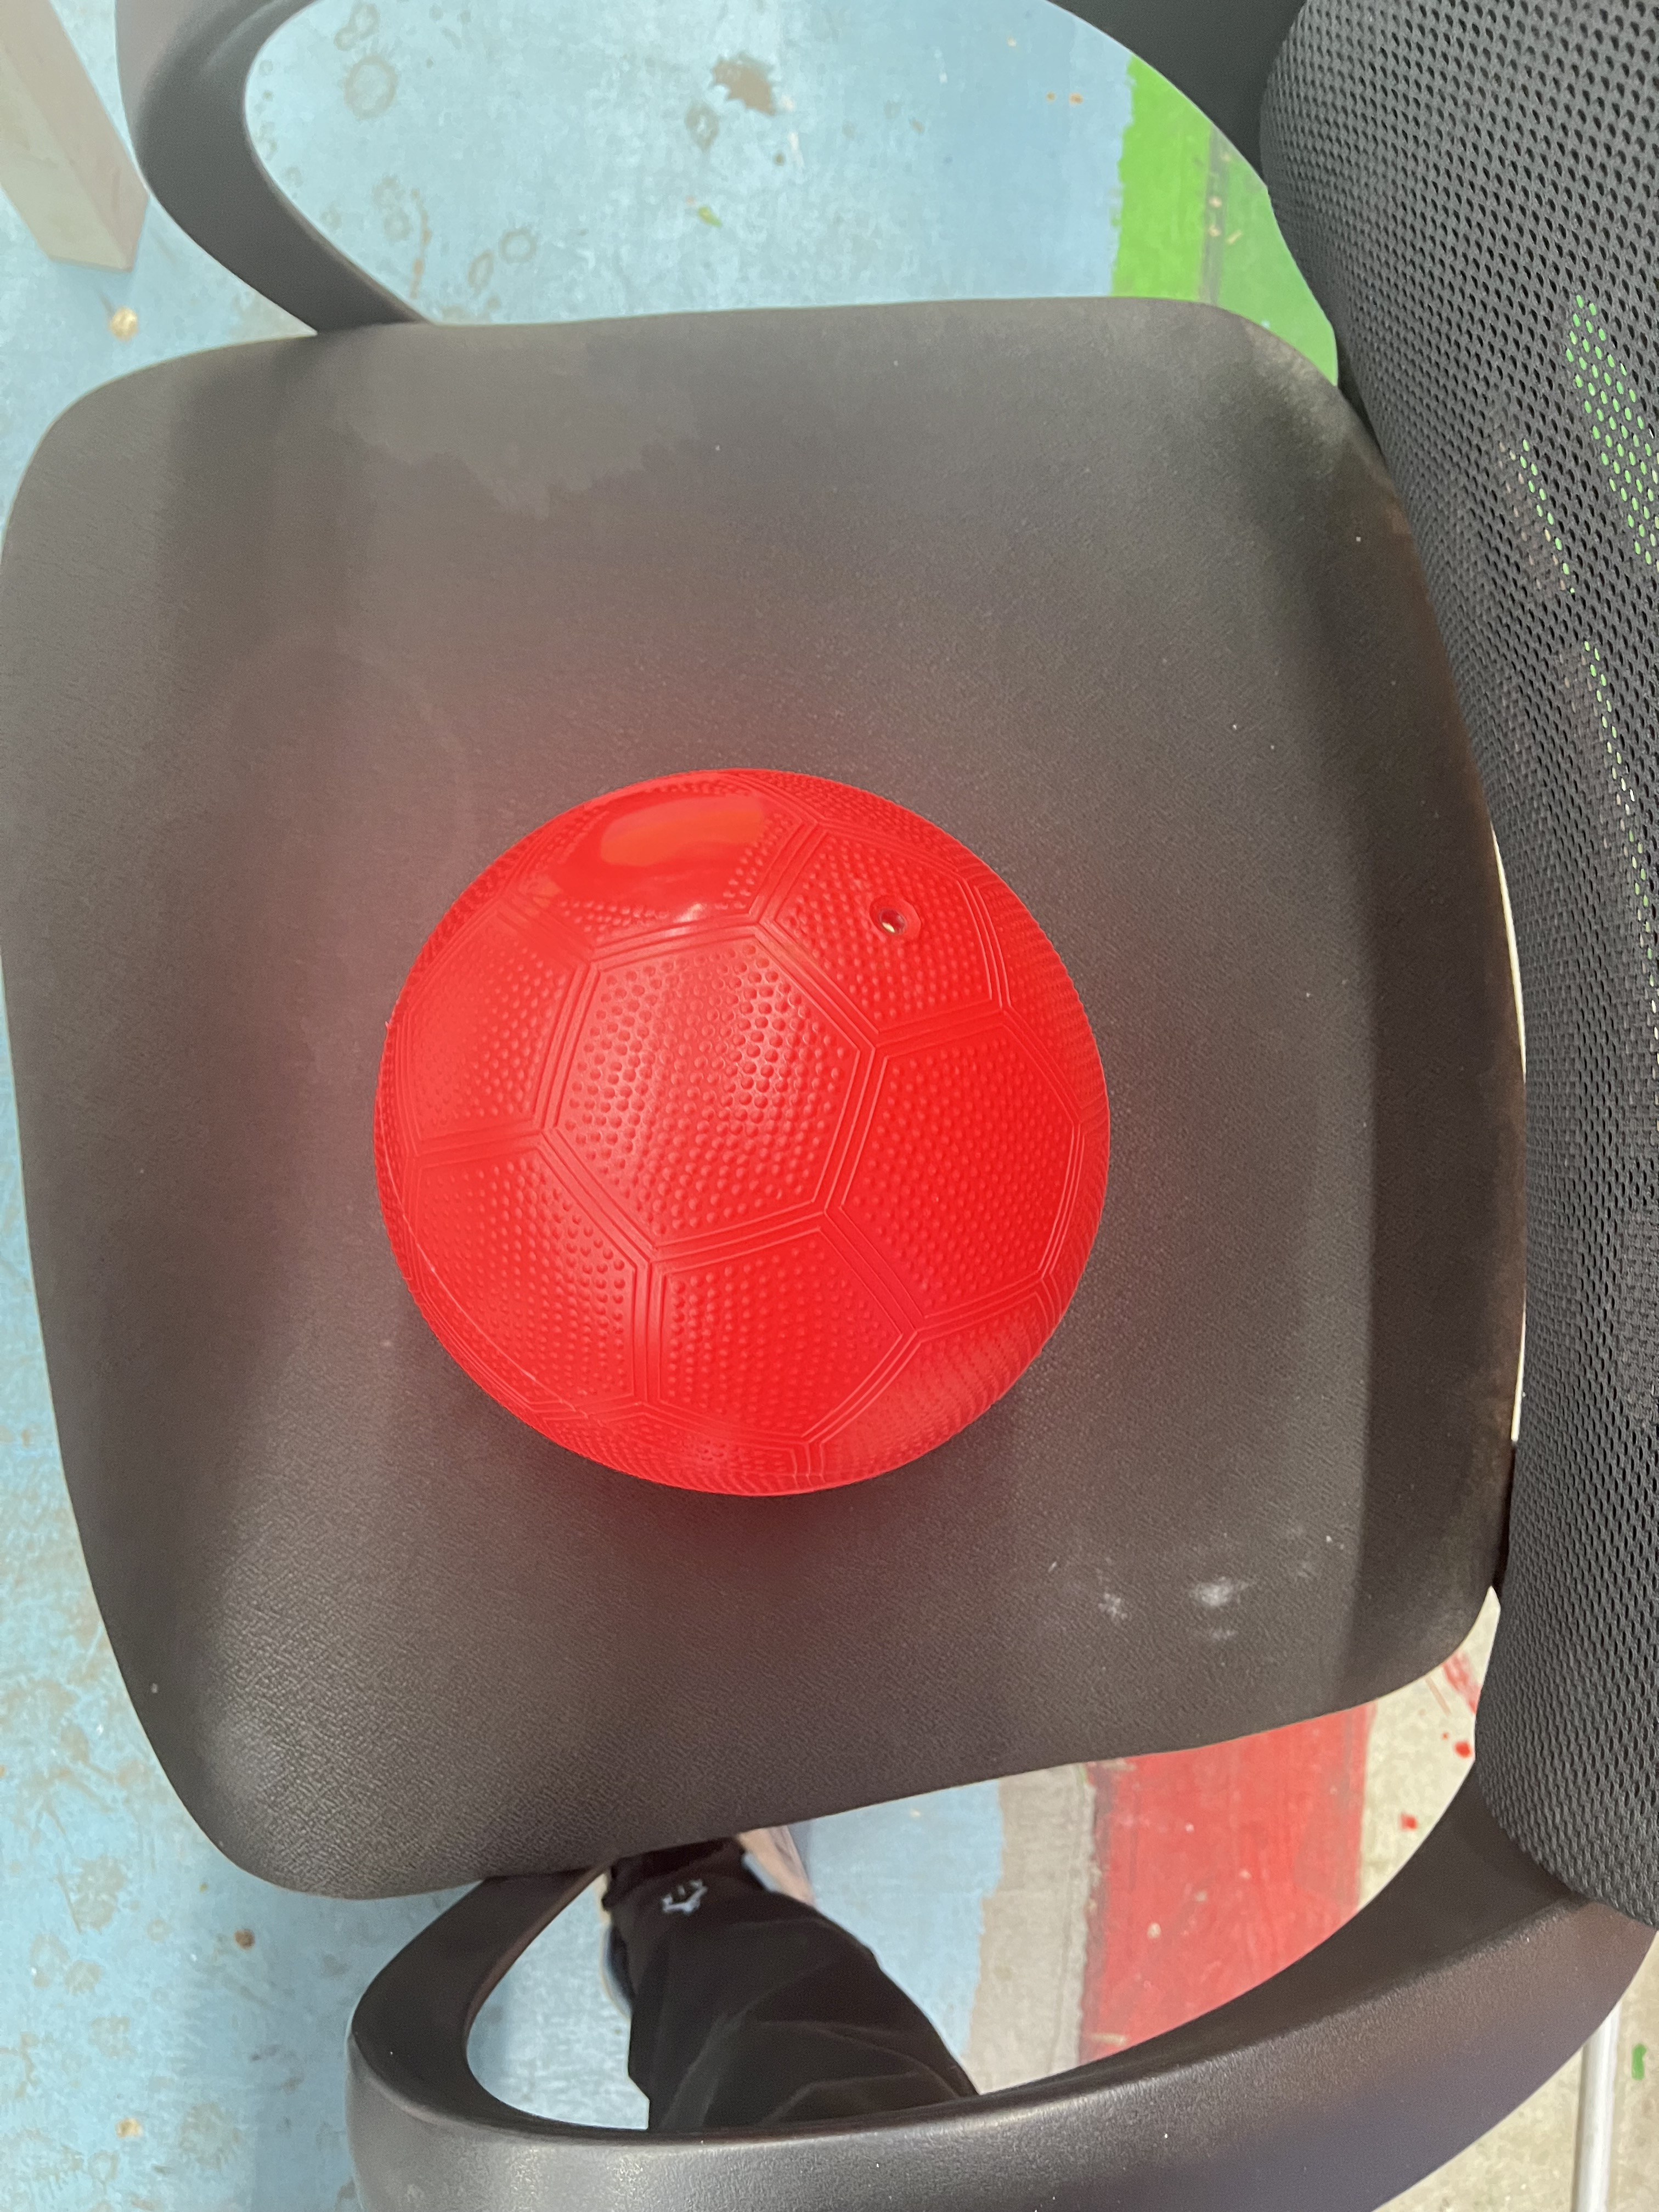red: (352, 763, 1133, 1519)
